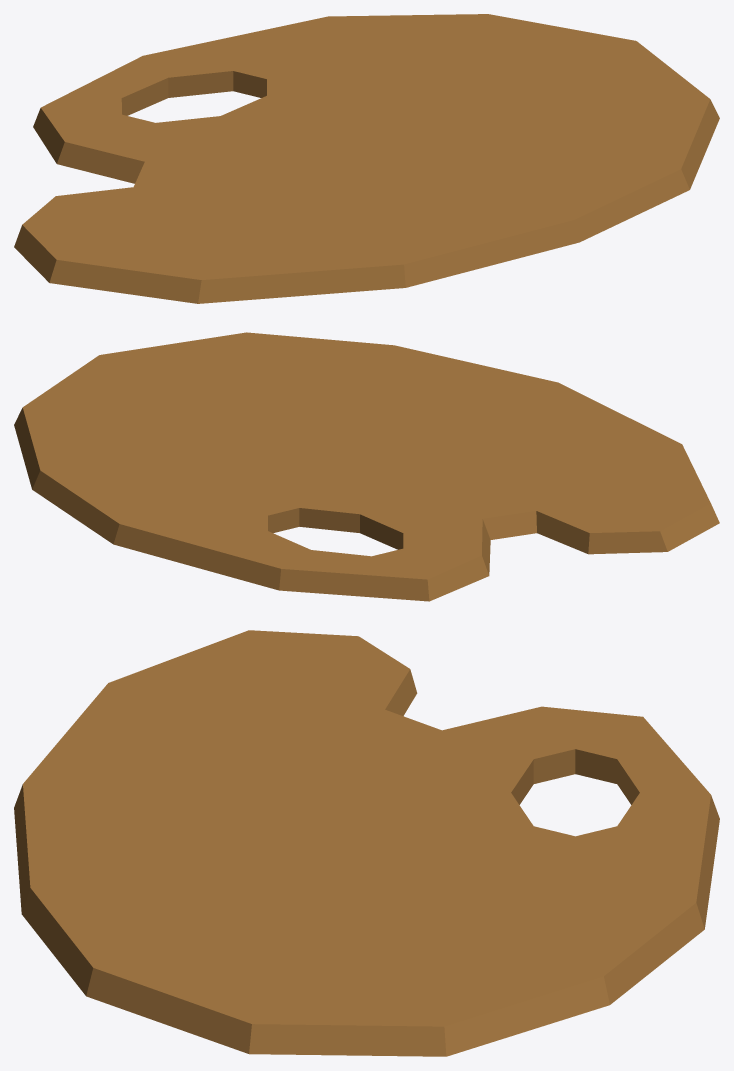
Rendered from tools-palette-color-wooden.glb.
The picture shows the model from 3 angles, top to bottom: view 1: azimuth 30°, elevation 25°; view 2: azimuth 150°, elevation 25°; view 3: azimuth 270°, elevation 25°; orthographic projection. The views are drawn at different scales.
Visible parts, largest first — view 1: palette-color-wooden; view 2: palette-color-wooden; view 3: palette-color-wooden.
Boxes of the visible parts, <box> form: palette-color-wooden: <box>14,14,719,303</box>; palette-color-wooden: <box>14,332,719,601</box>; palette-color-wooden: <box>14,630,719,1056</box>.
Bounding box in the file's own units: 0.3737 × 0.0107 × 0.2741.
